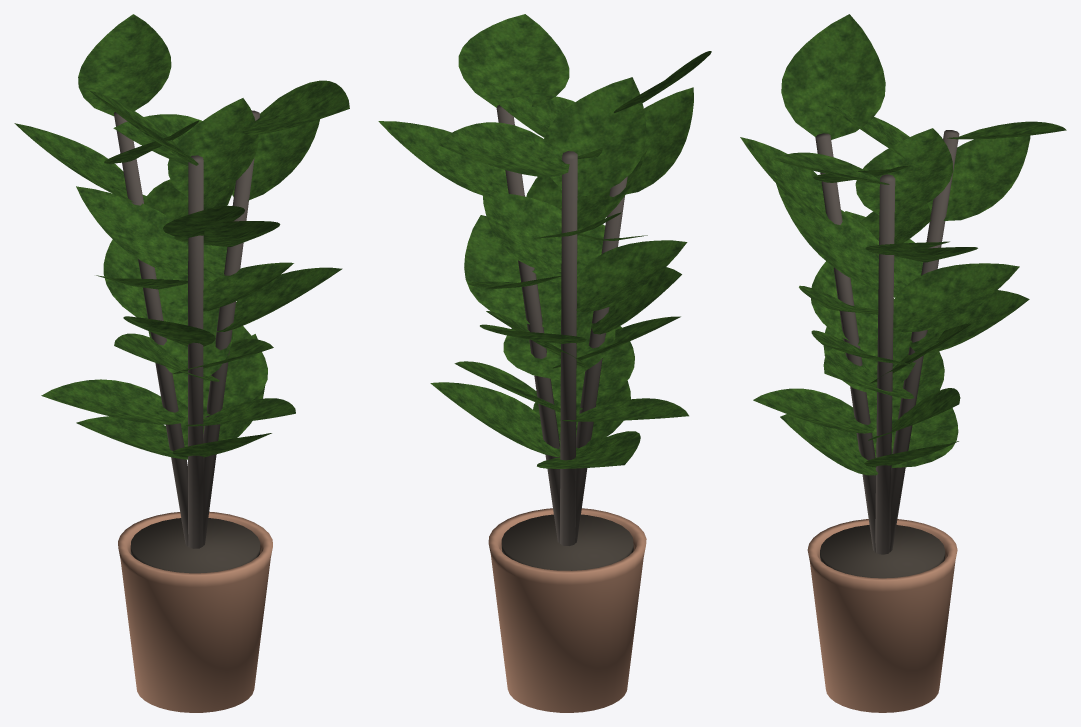
The model's file is living_plant_a.glb.
3 views of the same model, side by side, from view 1: azimuth 30°, elevation 25°; view 2: azimuth 150°, elevation 25°; view 3: azimuth 270°, elevation 25° (orthographic). The views are drawn at different scales.
Parts seen in each view (by area): view 1: living_plant_a; view 2: living_plant_a; view 3: living_plant_a.
Boxes of the visible parts, x1,y1,x2,y2 form: living_plant_a: (14, 14, 349, 712); living_plant_a: (378, 14, 711, 712); living_plant_a: (740, 14, 1066, 712).
Size of the model in its own units: 0.8962 by 1.86 by 0.8956.
Materials: 4 (1 with a texture image).
